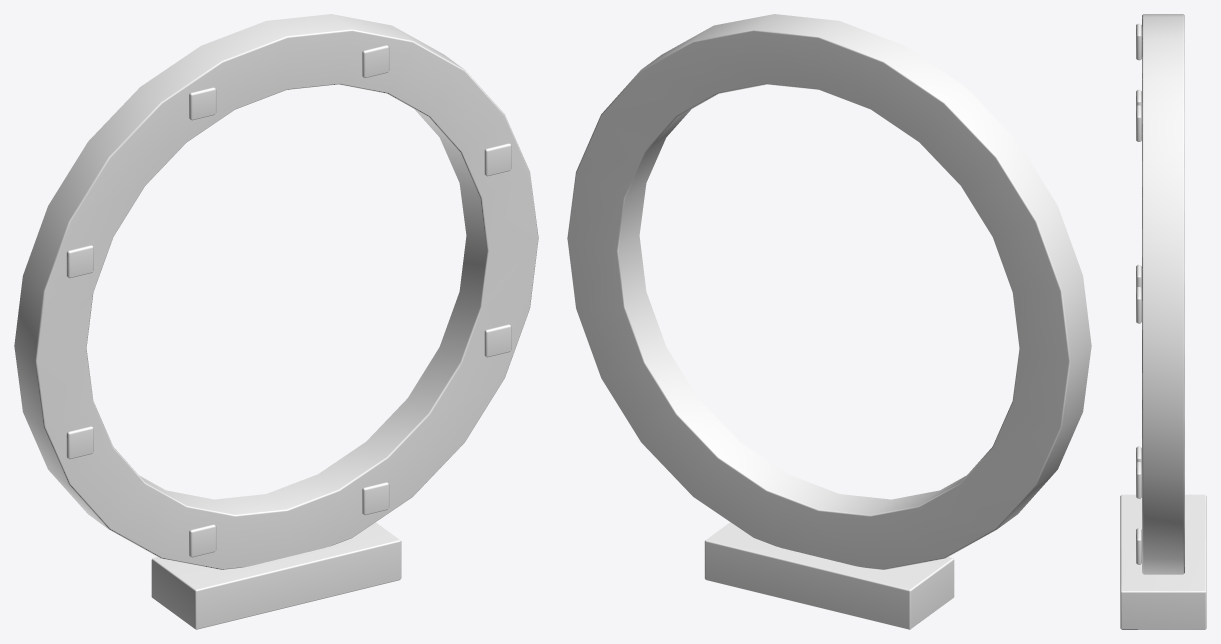
The model's file is gate_ring.glb.
The picture shows the model from 3 angles, left to right: view 1: azimuth 30°, elevation 25°; view 2: azimuth 150°, elevation 25°; view 3: azimuth 270°, elevation 25°; orthographic projection. The views are drawn at different scales.
Parts seen in each view (by area): view 1: GateRing; view 2: GateRing; view 3: GateRing.
Part boxes in pixels (x1,y1,x2,y2): GateRing: (14, 14, 538, 629); GateRing: (567, 14, 1091, 629); GateRing: (1120, 14, 1206, 629).
Bounding box in the file's own units: 3.9 × 4.15 × 0.6.
Materials: 1 (1 with a texture image).
